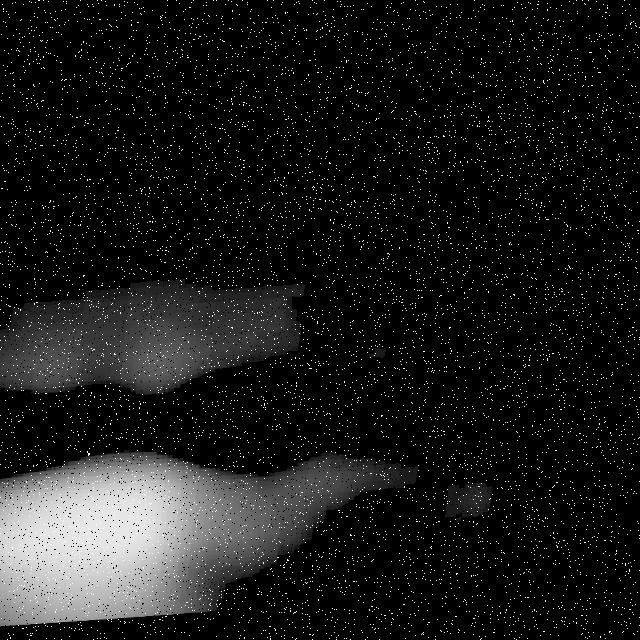person: (1, 410, 370, 640)
